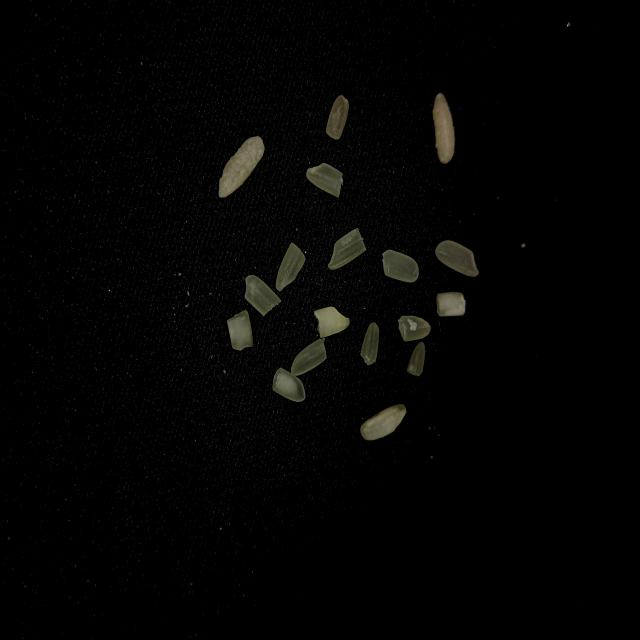Broken: (326, 228, 366, 270), (243, 274, 281, 316), (275, 243, 305, 291), (290, 338, 326, 376), (306, 162, 342, 198), (382, 250, 418, 282), (272, 368, 304, 402), (313, 307, 349, 337), (226, 310, 252, 350), (325, 96, 348, 140), (398, 316, 430, 342), (360, 322, 378, 366), (436, 292, 464, 316), (406, 342, 424, 377)
Full: (217, 137, 264, 199), (360, 404, 406, 440), (434, 240, 478, 276), (432, 94, 454, 164)
